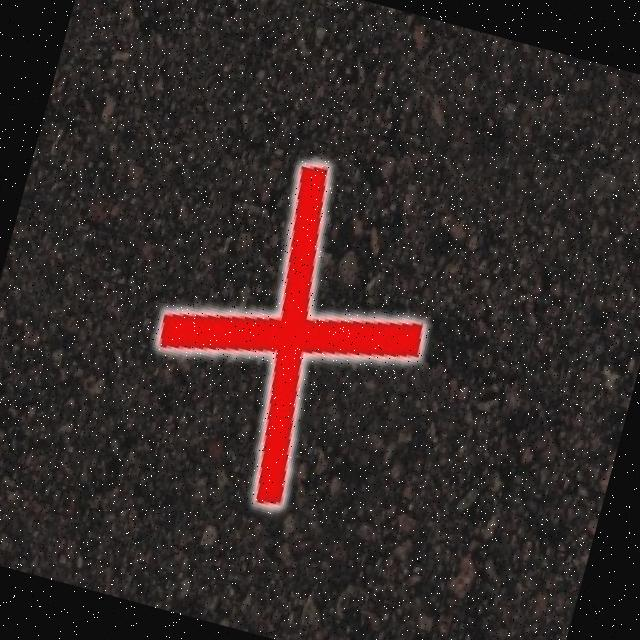x_marker: (122, 135, 458, 531)
